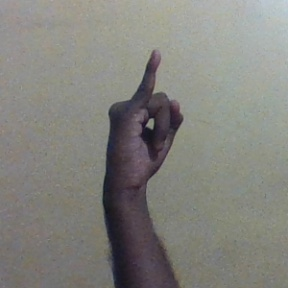I: (105, 47, 191, 187)
